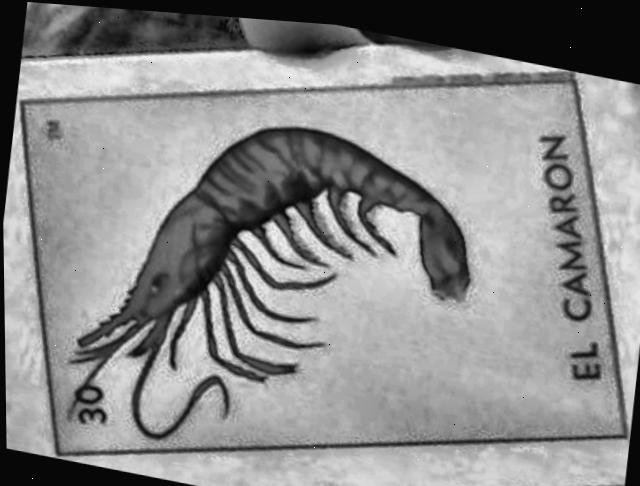El Camaron: (25, 70, 625, 457)
